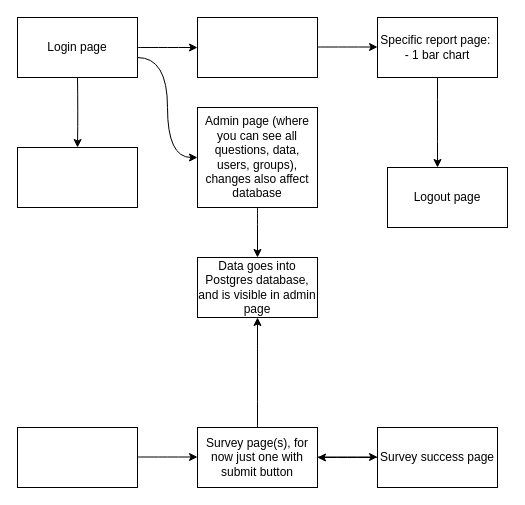
This 525x505 diagram has some shape labels left out. Each missing label, with the centre of its shape:
Account Page (which will contain all report pages): the point at 257,47
Login page (with error and option to create account): the point at 77,177
Survey welcome page (no login needed): the point at 77,457
